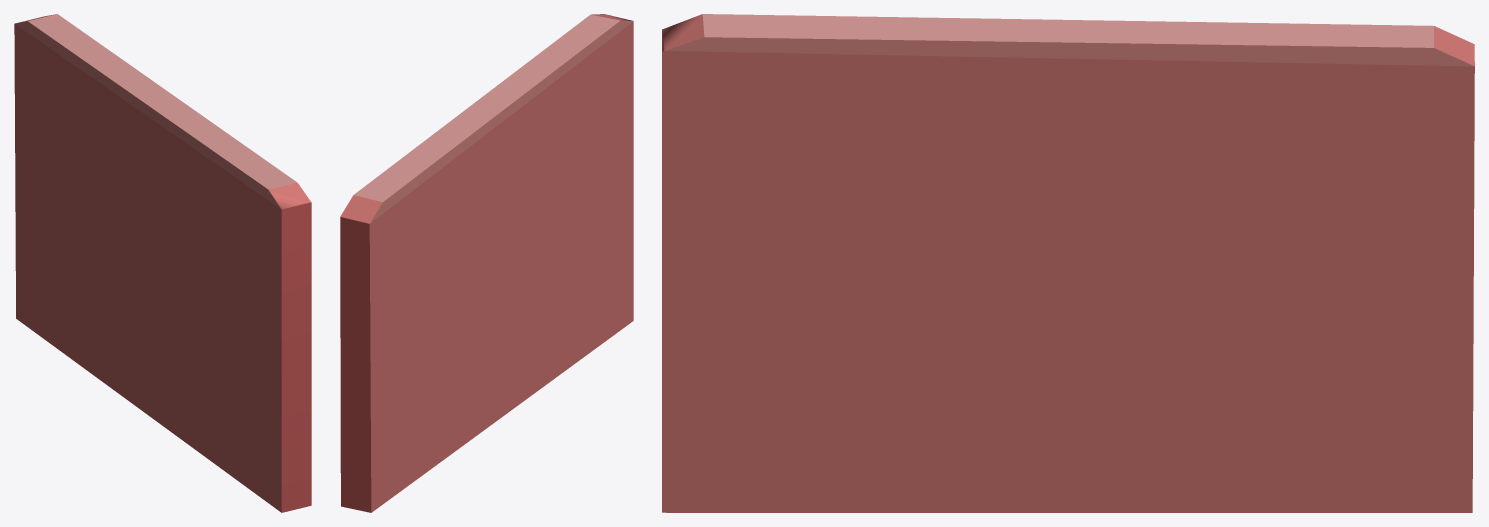
File: RacePlatformDeviderRed.glb
3 renders of one model, left to right at view 1: azimuth 30°, elevation 25°; view 2: azimuth 150°, elevation 25°; view 3: azimuth 270°, elevation 25°, orthographic. The views are drawn at different scales.
Visible parts, largest first — view 1: RacePlatformDeviderRed; view 2: RacePlatformDeviderRed; view 3: RacePlatformDeviderRed.
Part boxes in pixels (x1,y1,x2,y2): RacePlatformDeviderRed: [14, 14, 311, 512]; RacePlatformDeviderRed: [340, 14, 633, 512]; RacePlatformDeviderRed: [662, 14, 1474, 512].
Size of the model in its own units: 0.0935 by 0.9397 by 1.45.
